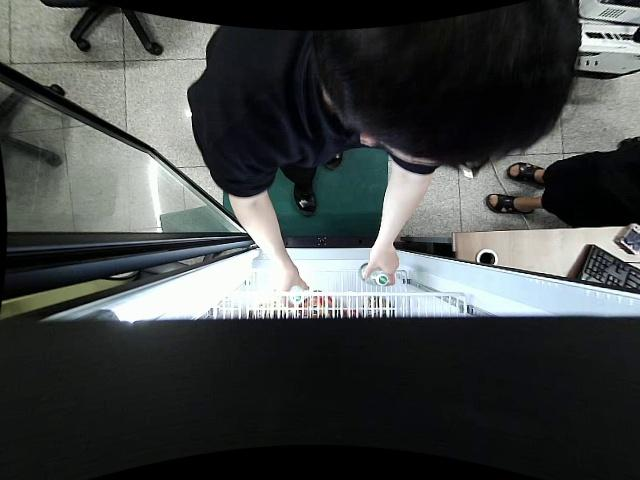00_hand: (363, 244, 399, 289), (275, 268, 311, 307)
18_trevi: (357, 261, 389, 287)
